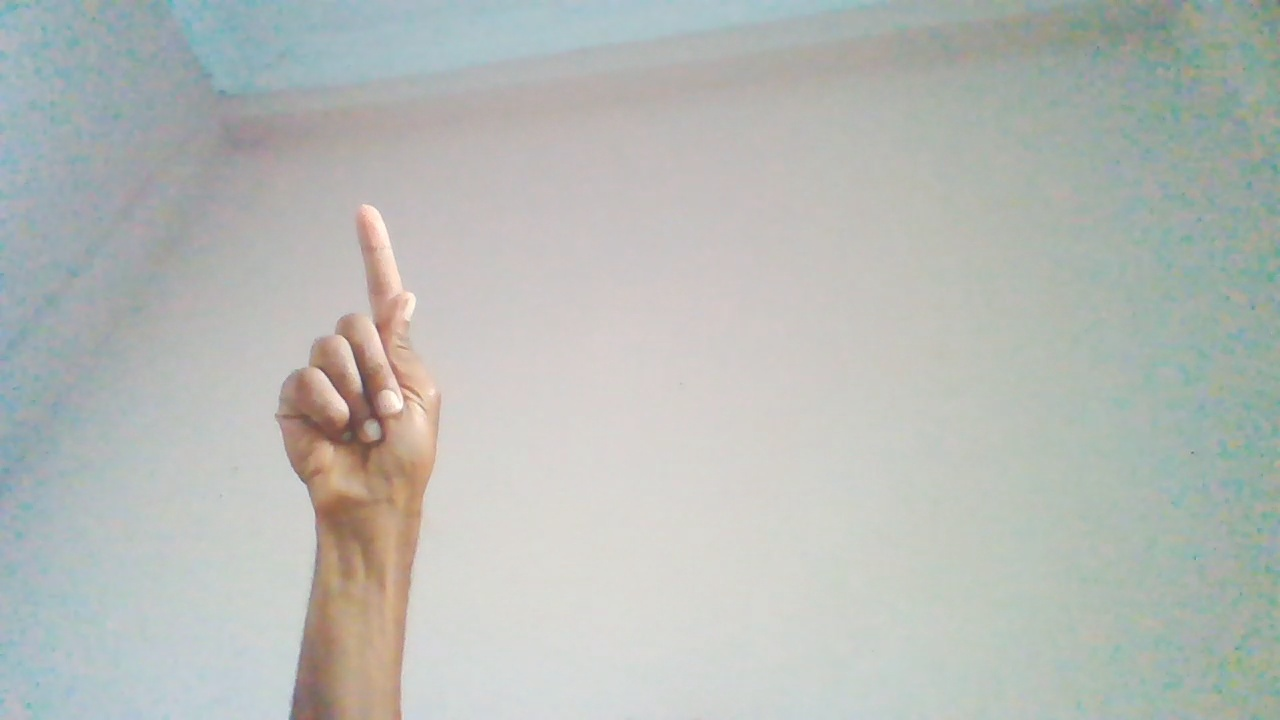ne: (272, 200, 453, 575)
